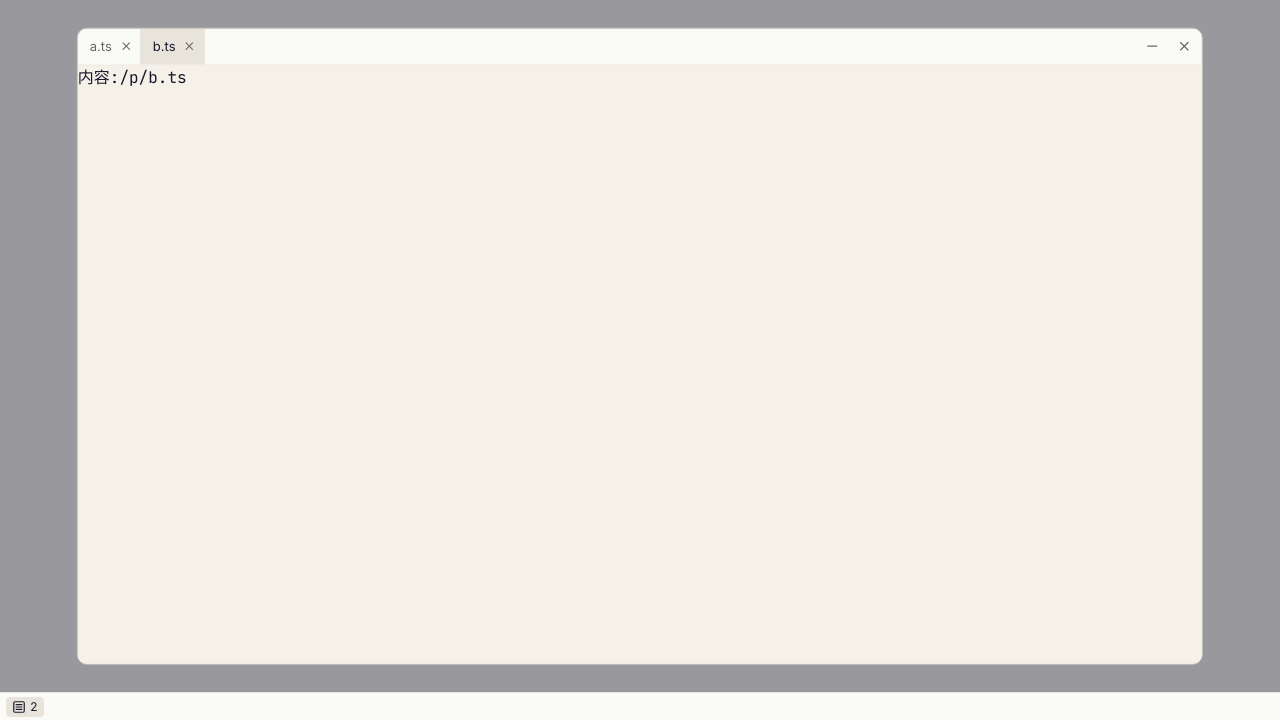
FileViewer › 点标签切换内容
Expected: the text "内容:/p/b.ts" is shown, [78,66,187,87]
What coordinates should you click on to do the following:
click the tab "a.ts"
I would click on:
 (101, 46)
Its box is [90,29,112,64].
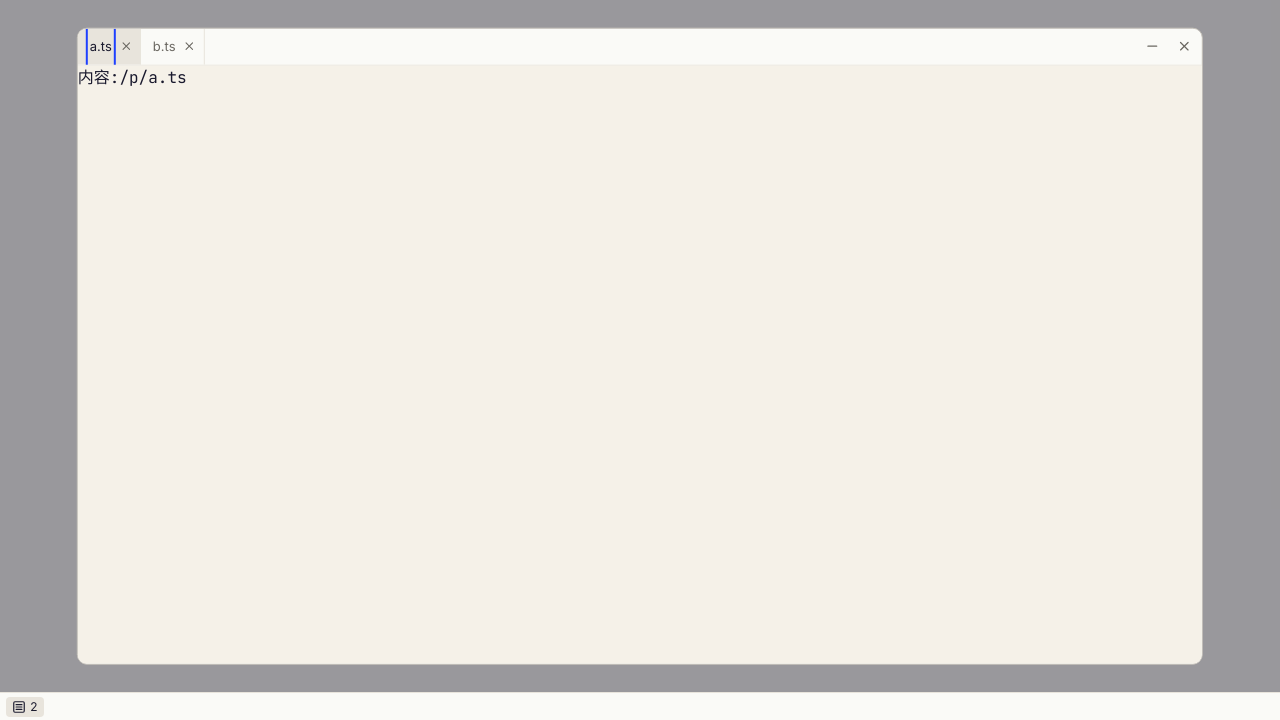
Expected: the text with test id "text" reads "内容:/p/a.ts", [78,66,187,87]
